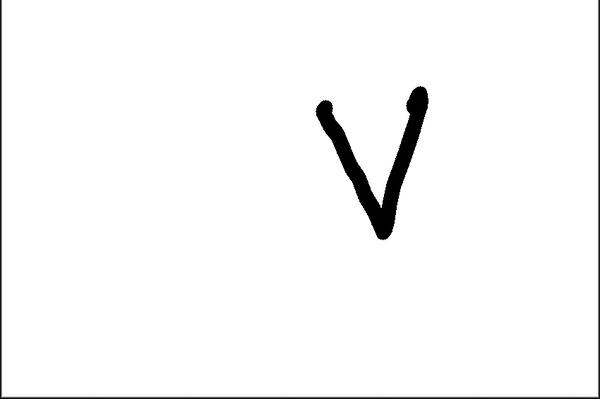V: (306, 75, 443, 242)
